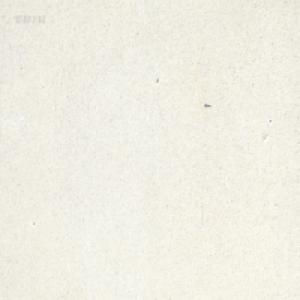Nail: (204, 102, 211, 107)
